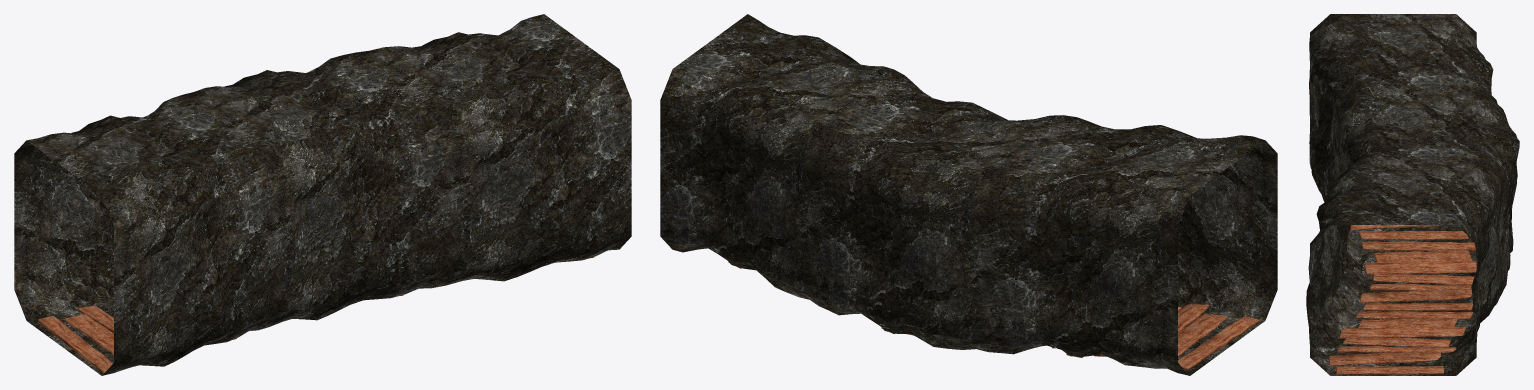
The model's file is Cave_049.fbx.
The picture shows the model from 3 angles, left to right: view 1: azimuth 30°, elevation 25°; view 2: azimuth 150°, elevation 25°; view 3: azimuth 270°, elevation 25°; orthographic projection. The views are drawn at different scales.
Visible parts, largest first — view 1: Cave.049; view 2: Cave.049; view 3: Cave.049.
Boxes of the visible parts, x1,y1,x2,y2 form: Cave.049: (14, 14, 631, 375); Cave.049: (660, 14, 1277, 375); Cave.049: (1306, 14, 1519, 375).
Bounding box in the file's own units: 900 × 331 × 385.
